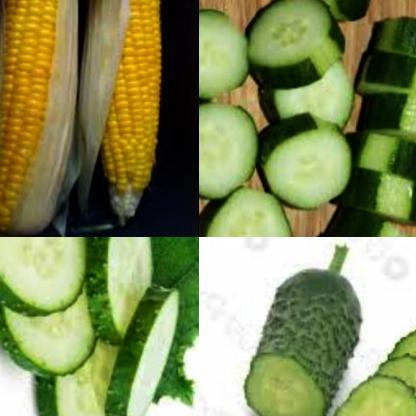corn: (0, 0, 77, 236), (86, 0, 165, 225)
cucumber: (0, 237, 184, 416), (234, 249, 367, 416), (318, 284, 416, 416), (241, 0, 350, 90), (260, 115, 357, 211), (262, 49, 362, 135), (347, 127, 416, 237), (358, 24, 416, 144), (199, 102, 265, 199), (199, 11, 259, 104), (199, 187, 307, 237), (296, 0, 379, 26)
